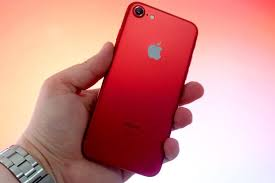iphone: (81, 1, 200, 177)
